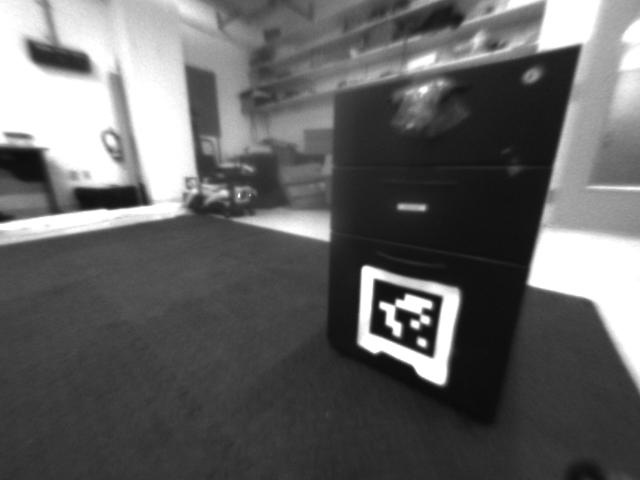drawer: (387, 81, 464, 143)
